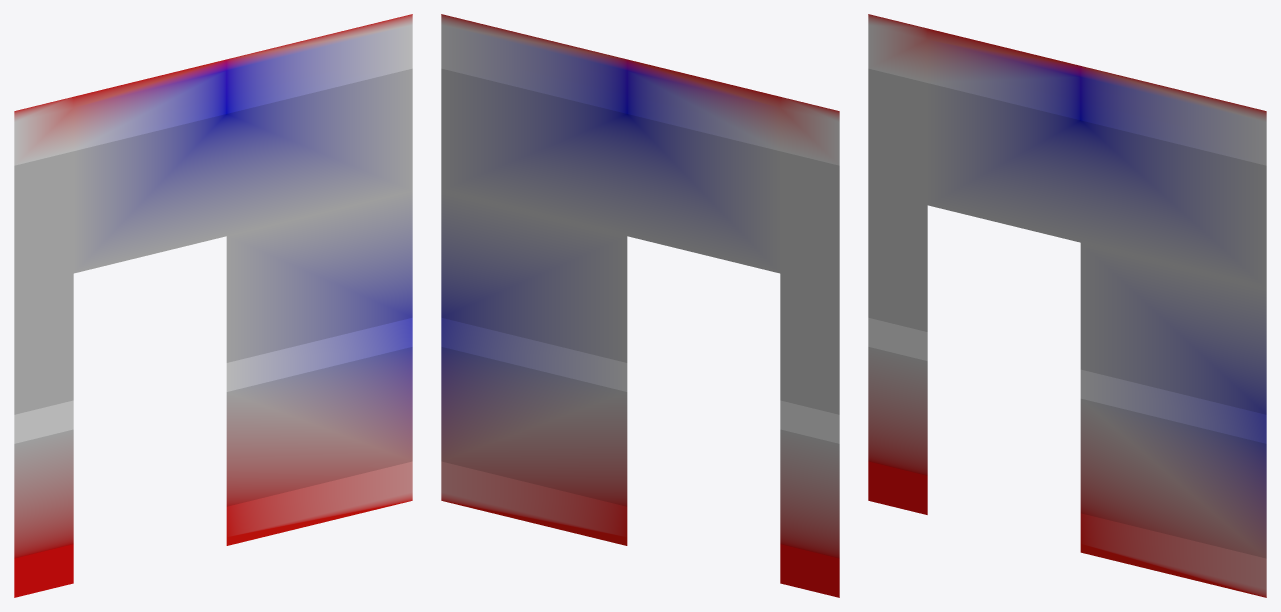
3 views of the same model, side by side, from view 1: azimuth 30°, elevation 25°; view 2: azimuth 150°, elevation 25°; view 3: azimuth 330°, elevation 25° (orthographic).
Visible parts, largest first — view 1: SM_Bathroom_Wall_02_LOD0; view 2: SM_Bathroom_Wall_02_LOD0; view 3: SM_Bathroom_Wall_02_LOD0.
Boxes of the visible parts, box(x1,y1,x2,y2) form: SM_Bathroom_Wall_02_LOD0: box(14, 14, 412, 597); SM_Bathroom_Wall_02_LOD0: box(441, 14, 839, 597); SM_Bathroom_Wall_02_LOD0: box(868, 14, 1266, 597).
Size of the model in its own units: 300 by 3.58e-05 by 350.
